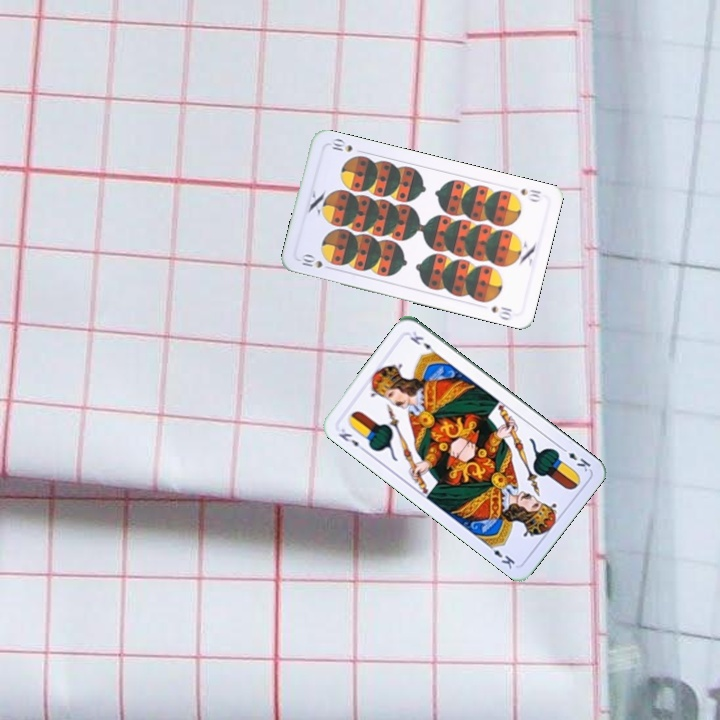EK: (557, 443, 593, 474), (335, 424, 368, 454)
S10: (295, 251, 335, 272), (517, 184, 544, 204)
